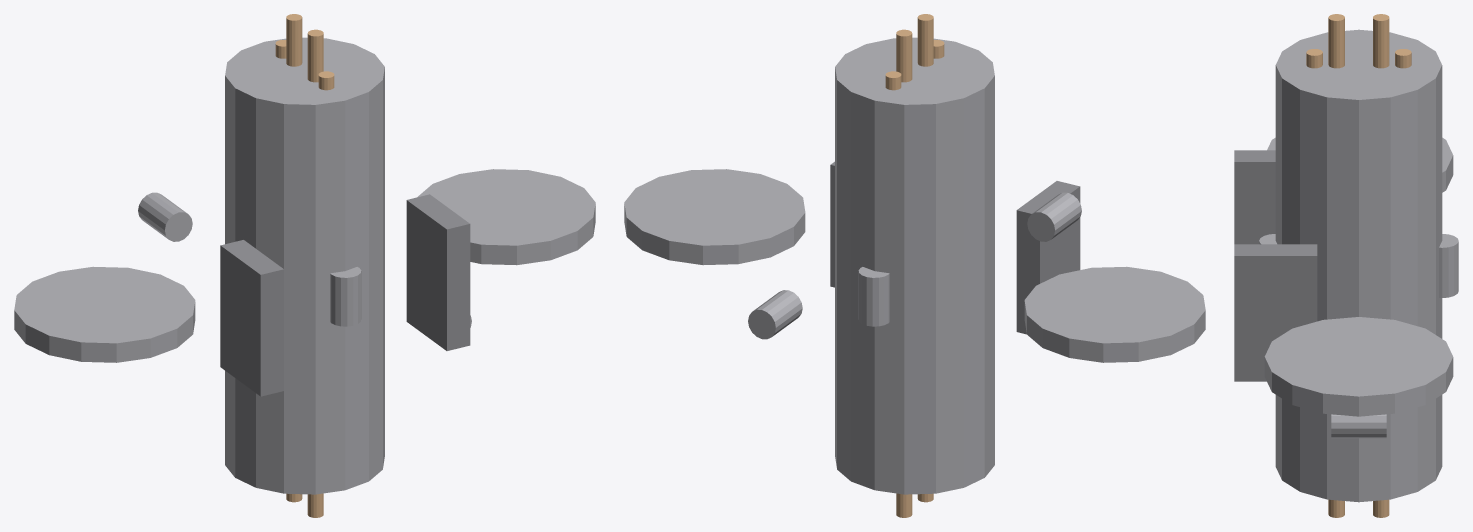
The model's file is heat_exchanger.glb.
3 renders of one model, left to right at view 1: azimuth 30°, elevation 25°; view 2: azimuth 150°, elevation 25°; view 3: azimuth 270°, elevation 25°, orthographic. The views are drawn at different scales.
Visible parts, largest first — view 1: Shell, Cap_-4.3, Cap_4.3, Saddle_2, Saddle_-2, OutletBot, ShellIn, Tube_1, Tube_2; view 2: Shell, Cap_4.3, Cap_-4.3, Saddle_-2, InletTop, ShellIn, ShellOut, Tube_2, Tube_1; view 3: Shell, Cap_4.3, Saddle_2, Saddle_-2, ShellOut, InletTop, Tube_1, Tube_2, Cap_-4.3, Tube_3, Tube_0, Tube_4 (+1 smaller).
Boxes of the visible parts, x1,y1,x2,y2 form: Shell: [225, 37, 384, 494]; Cap_-4.3: [14, 266, 195, 362]; Cap_4.3: [417, 169, 595, 265]; Saddle_2: [406, 194, 470, 350]; Saddle_-2: [220, 240, 283, 396]; OutletBot: [330, 267, 361, 326]; ShellIn: [138, 192, 192, 241]; Tube_1: [286, 14, 302, 66]; Tube_2: [307, 29, 323, 82]; Shell: [835, 37, 994, 494]; Cap_4.3: [624, 169, 805, 265]; Cap_-4.3: [1024, 266, 1205, 362]; Saddle_-2: [1016, 181, 1080, 334]; InletTop: [858, 267, 889, 326]; ShellIn: [1027, 192, 1081, 241]; ShellOut: [748, 290, 802, 339]; Tube_2: [917, 14, 933, 66]; Tube_1: [896, 29, 912, 82]; Shell: [1275, 29, 1442, 502]; Cap_4.3: [1264, 317, 1453, 416]; Saddle_2: [1234, 244, 1317, 381]; Saddle_-2: [1234, 150, 1275, 244]; ShellOut: [1331, 414, 1386, 438]; InletTop: [1439, 234, 1458, 297]; Tube_1: [1373, 14, 1389, 68]; Tube_2: [1328, 14, 1344, 68]; Cap_-4.3: [1267, 137, 1453, 192]; Tube_3: [1306, 49, 1322, 68]; Tube_0: [1395, 49, 1411, 68]; Tube_4: [1328, 499, 1344, 517].
Size of the model in its own units: 12 by 9.89 by 4.05.
